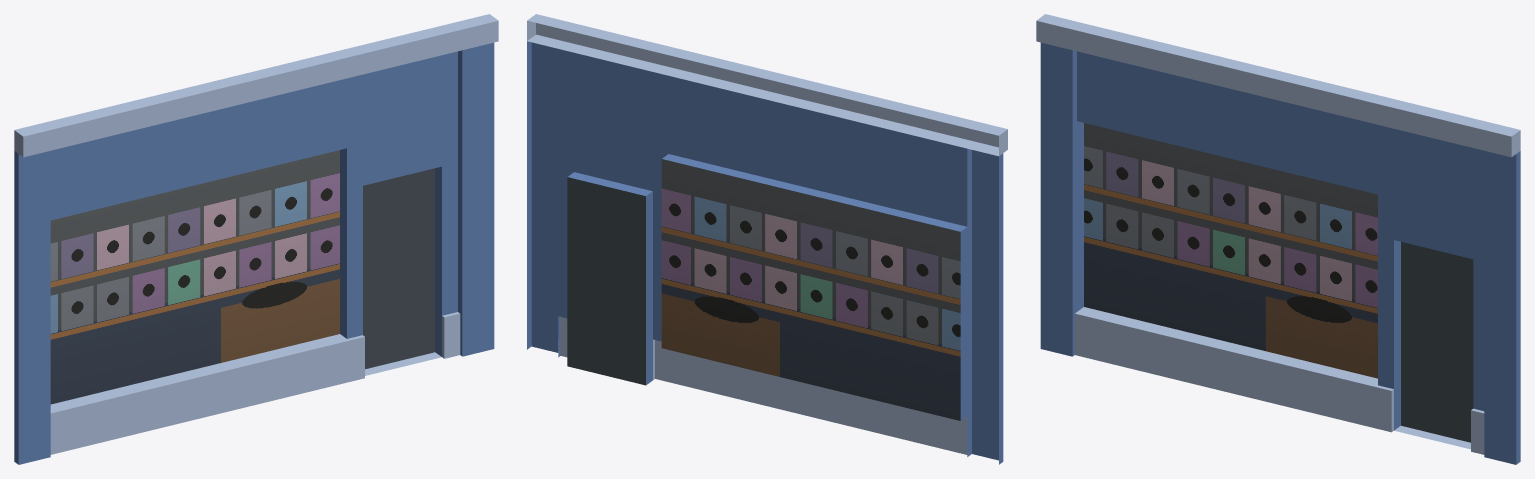
File: SM_ShopFront_6m_Plak.obj
The picture shows the model from 3 angles, left to right: view 1: azimuth 30°, elevation 25°; view 2: azimuth 150°, elevation 25°; view 3: azimuth 330°, elevation 25°; orthographic projection.
Parts seen in each view (by area): view 1: ShopFront; view 2: ShopFront; view 3: ShopFront.
Part boxes in pixels (x1=…): ShopFront: x1=14, y1=14, x2=498, y2=464; ShopFront: x1=527, y1=14, x2=1007, y2=464; ShopFront: x1=1036, y1=14, x2=1520, y2=464.
Size of the model in its own units: 6 by 4 by 0.35.
